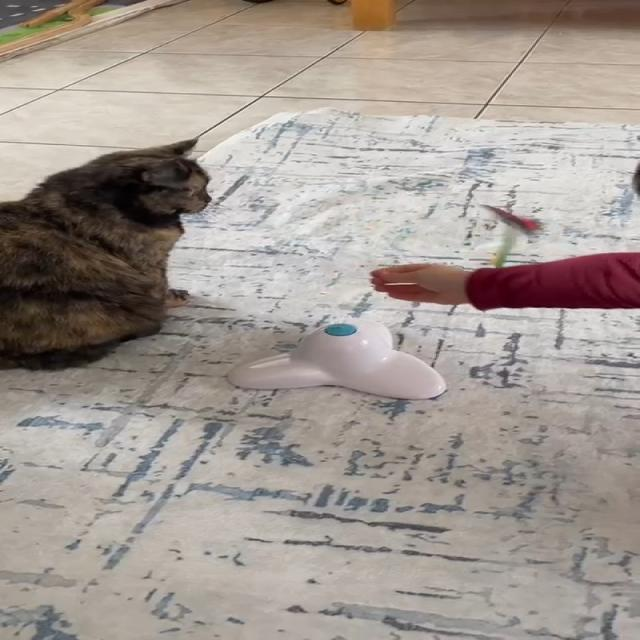authorized: (0, 137, 212, 371)
